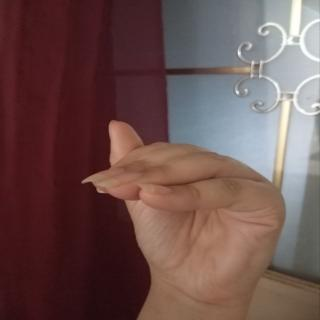KHAA: (76, 115, 306, 312)
